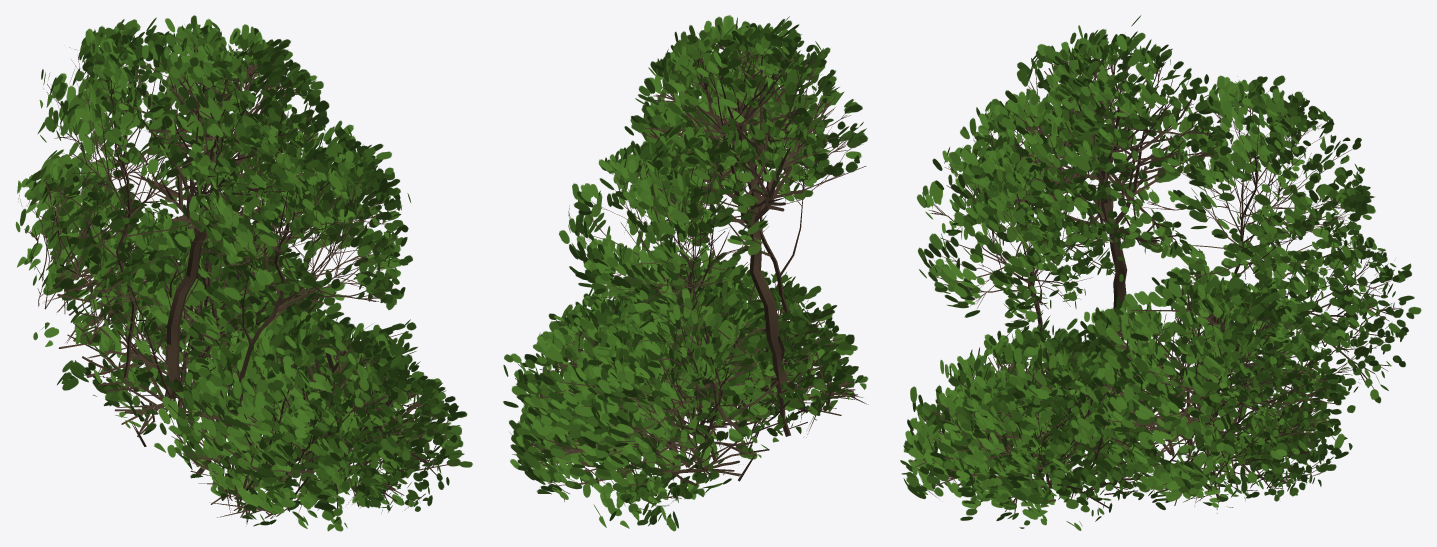
3 views of the same model, side by side, from view 1: azimuth 30°, elevation 25°; view 2: azimuth 150°, elevation 25°; view 3: azimuth 270°, elevation 25° (orthographic). The views are drawn at different scales.
Parts seen in each view (by area): view 1: oak 01.001_trunk_Mat.001_0.468; view 2: oak 01.001_trunk_Mat.001_0.468; view 3: oak 01.001_trunk_Mat.001_0.468.
Boxes of the visible parts, box(x1,y1,x2,y2) form: oak 01.001_trunk_Mat.001_0.468: box(15, 15, 472, 531); oak 01.001_trunk_Mat.001_0.468: box(503, 15, 868, 531); oak 01.001_trunk_Mat.001_0.468: box(900, 15, 1421, 530).
Size of the model in its own units: 2.92 by 4.72 by 5.15.
2 materials, 1 textured.
